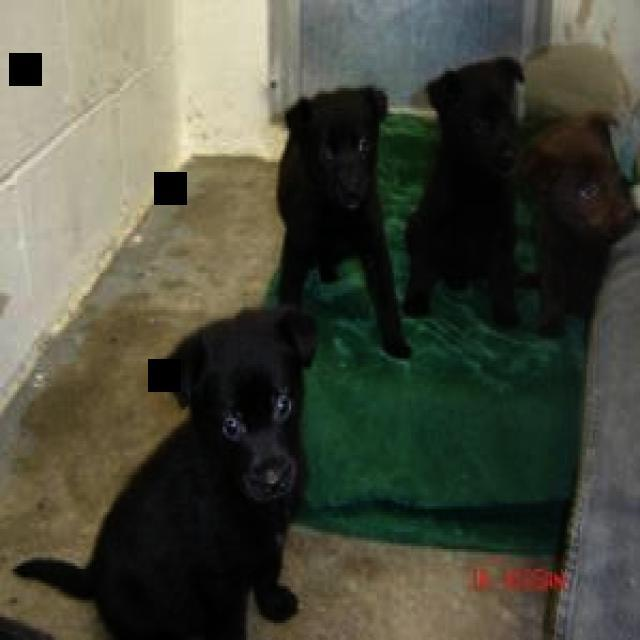puppy-dog: (14, 310, 317, 640), (266, 86, 410, 361), (404, 56, 525, 330), (514, 114, 639, 336)
